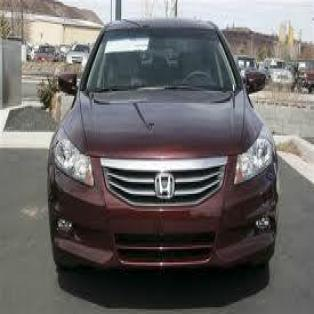Auto: (47, 20, 280, 292)
